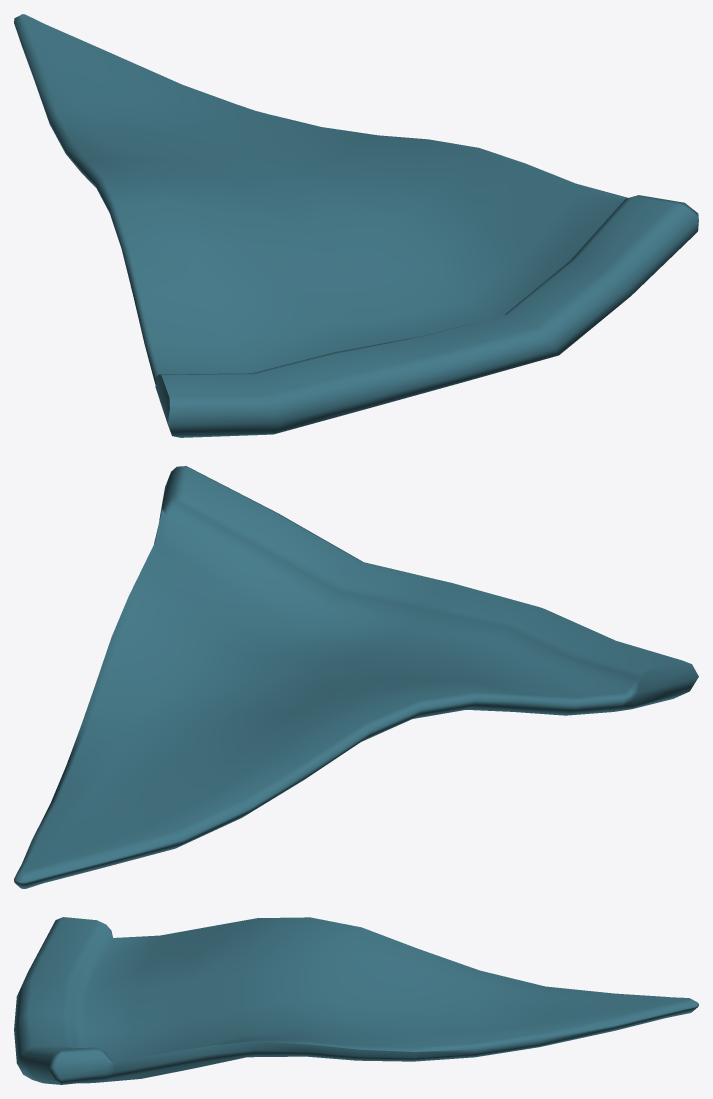
The model's file is SM_SmallTrashkit_Pizza_002.fbx.
The picture shows the model from 3 angles, top to bottom: view 1: azimuth 30°, elevation 25°; view 2: azimuth 150°, elevation 25°; view 3: azimuth 270°, elevation 25°; orthographic projection. The views are drawn at different scales.
Parts seen in each view (by area): view 1: SM_SmallTrashkit_Pizza_002; view 2: SM_SmallTrashkit_Pizza_002; view 3: SM_SmallTrashkit_Pizza_002.
Part boxes in pixels (box(x1,y1,x2,y2)): SM_SmallTrashkit_Pizza_002: box(14, 14, 698, 437); SM_SmallTrashkit_Pizza_002: box(14, 466, 698, 888); SM_SmallTrashkit_Pizza_002: box(14, 917, 698, 1084).
Bounding box in the file's own units: 16.04 × 3.48 × 23.11.
